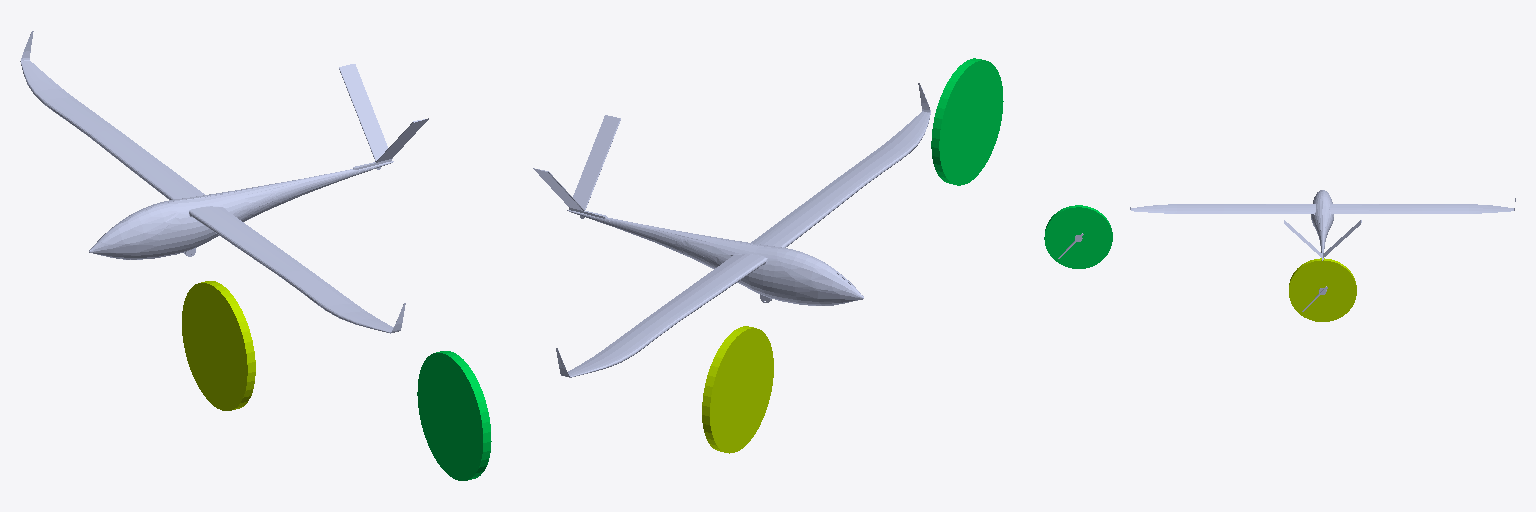
The robot description file, URDF, robot "Glider_S_UI":
<?xml version="1.0" encoding="utf-8"?>
<!-- This URDF was automatically created by SolidWorks to URDF Exporter! Originally created by [author] ([email redacted]) 
     Commit Version: 1.6.0-4-g7f85cfe  Build Version: 1.6.7995.38578
     For more information, please see http://wiki.ros.org/sw_urdf_exporter -->
<robot
  name="Glider_S_UI">
  <link
    name="base_link">
    <inertial>
      <origin
        xyz="1.4385E-06 3.3646E-07 3.6467E-06"
        rpy="0 0 0" />
      <mass
        value="6.4021" />
      <inertia
        ixx="0.40729"
        ixy="-1.3561E-06"
        ixz="-0.010981"
        iyy="0.1337"
        iyz="-2.0777E-06"
        izz="0.52299" />
    </inertial>
    <visual>
      <origin
        xyz="0 0 0"
        rpy="0 0 0" />
      <geometry>
        <mesh
          filename="../meshes/base_link.STL" />
      </geometry>
      <material
        name="Plane_Mat">
        <color
          rgba="0.79216 0.81961 0.93333 1" />
      </material>
    </visual>
    <collision>
      <origin
        xyz="0 0 0"
        rpy="0 0 0" />
      <geometry>
        <mesh
          filename="../meshes/base_link.STL" />
      </geometry>
    </collision>
  </link>
  <link
    name="Speedometer1">
    <visual>
      <origin
        xyz="0 0 0"
        rpy="0 0 0" />
      <geometry>
        <mesh
          filename="../meshes/Speedometer1.STL" />
      </geometry>
      <material
        name="S1_Mat">
        <color
          rgba="0 0.85 0.35 1" />
      </material>
    </visual>
  </link>
  <joint
    name="Base_2_S1"
    type="fixed">
    <origin
      xyz="0.0690674218762038 -1.2500011445781 -0.0962555780744807"
      rpy="0 0 0" />
    <parent
      link="base_link" />
    <child
      link="Speedometer1" />
    <axis
      xyz="0 0 0" />
  </joint>
  <link
    name="S1_dial">
    <visual>
      <origin
        xyz="0 0 0"
        rpy="0 0 0" />
      <geometry>
        <mesh
          filename="../meshes/S1_dial.STL" />
      </geometry>
      <material
        name="Dial_Mat">
        <color
          rgba="0.79216 0.81961 0.93333 1" />
      </material>
    </visual>
  </link>
  <joint
    name="S1_axis"
    type="revolute">
    <origin
      xyz="0 0 0"
      rpy="0 0 0" />
    <parent
      link="Speedometer1" />
    <child
      link="S1_dial" />
    <axis
      xyz="-1 0 0" />
    <limit
      lower="0"
      upper="5"
      effort="1"
      velocity="1" />
  </joint>
  <link
    name="Speedometer2">
    <visual>
      <origin
        xyz="0 0 0"
        rpy="0 0 0" />
      <geometry>
        <mesh
          filename="../meshes/Speedometer2.STL" />
      </geometry>
      <material
        name="S2_Mat">
        <color
          rgba="0 .35 .8 1" />
      </material>
    </visual>
  </link>
  <joint
    name="Base_2_S2"
    type="fixed">
    <origin
      xyz="0.0690674218762038 1.2499988554219 -0.096255578074481"
      rpy="0 0 0" />
    <parent
      link="base_link" />
    <child
      link="Speedometer2" />
    <axis
      xyz="0 0 0" />
  </joint>
  <link
    name="S2_dial">
    <visual>
      <origin
        xyz="0 0 0"
        rpy="0 0 0" />
      <geometry>
        <mesh
          filename="../meshes/S2_dial.STL" />
      </geometry>
      <material
        name="Dial_Mat">
        <color
          rgba="0.79216 0.81961 0.93333 1" />
      </material>
    </visual>
  </link>
  <joint
    name="S2_axis"
    type="revolute">
    <origin
      xyz="0 0 0"
      rpy="0 0 0" />
    <parent
      link="Speedometer2" />
    <child
      link="S2_dial" />
    <axis
      xyz="-1 0 0" />
    <limit
      lower="0"
      upper="5"
      effort="1"
      velocity="1" />
  </joint>
  <link
    name="Altimeter">
    <visual>
      <origin
        xyz="0 0 0"
        rpy="0 0 0" />
      <geometry>
        <mesh
          filename="../meshes/Altimeter.STL" />
      </geometry>
      <material
        name="S3_Mat">
        <color
          rgba="0.75 0.9 0 1" />
      </material>
    </visual>
  </link>
  <joint
    name="Base_2_A"
    type="fixed">
    <origin
      xyz="0.069067 0 -0.39626"
      rpy="0 0 0" />
    <parent
      link="base_link" />
    <child
      link="Altimeter" />
    <axis
      xyz="0 0 0" />
  </joint>
  <link
    name="A_dial">
    <visual>
      <origin
        xyz="0 0 0"
        rpy="0 0 0" />
      <geometry>
        <mesh
          filename="../meshes/A_dial.STL" />
      </geometry>
      <material
        name="Dial_Mat">
        <color
          rgba="0.79216 0.81961 0.93333 1" />
      </material>
    </visual>
  </link>
  <joint
    name="A_axis"
    type="revolute">
    <origin
      xyz="0 0 0"
      rpy="0 0 0" />
    <parent
      link="Altimeter" />
    <child
      link="A_dial" />
    <axis
      xyz="-1 0 0" />
    <limit
      lower="0"
      upper="5"
      effort="1"
      velocity="1" />
  </joint>
</robot>

--- Render facts (derived) ---
3 views of the same robot in one strip: view 1: azimuth 30°, elevation 25°; view 2: azimuth 150°, elevation 25°; view 3: azimuth 270°, elevation 25° (orthographic).
Model Glider_S_UI with 7 links and 6 joints (3 revolute, 3 fixed), rooted at base_link, posed every joint at zero.
Visible links, largest first — view 1: base_link, Altimeter, Speedometer1; view 2: base_link, Altimeter, Speedometer1; view 3: base_link, Speedometer1, Altimeter.
Link boxes in pixels (left/top/right/bottom): base_link: left=20, top=31, right=428, bottom=333; Altimeter: left=182, top=281, right=255, bottom=410; Speedometer1: left=417, top=351, right=491, bottom=480; base_link: left=533, top=83, right=930, bottom=377; Altimeter: left=702, top=326, right=773, bottom=453; Speedometer1: left=931, top=58, right=1003, bottom=185; base_link: left=1130, top=190, right=1515, bottom=260; Speedometer1: left=1044, top=205, right=1112, bottom=268; Altimeter: left=1289, top=258, right=1356, bottom=321.
Size in the robot's own frame: 0.9338 by 2.41 by 0.7992 metres.
5 mesh visuals loaded from 7 distinct referenced files (5 binary STL); not drawn: 2 (reference not matched to a file when rendering).
